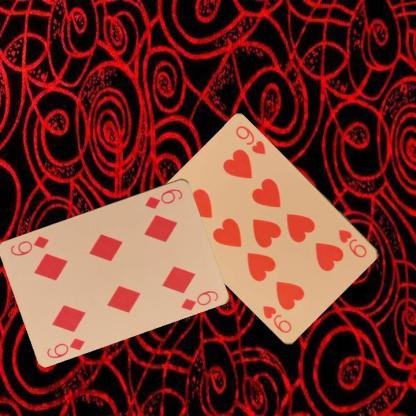6d: (44, 335, 86, 360), (142, 186, 184, 210)
9h: (336, 226, 369, 260)
